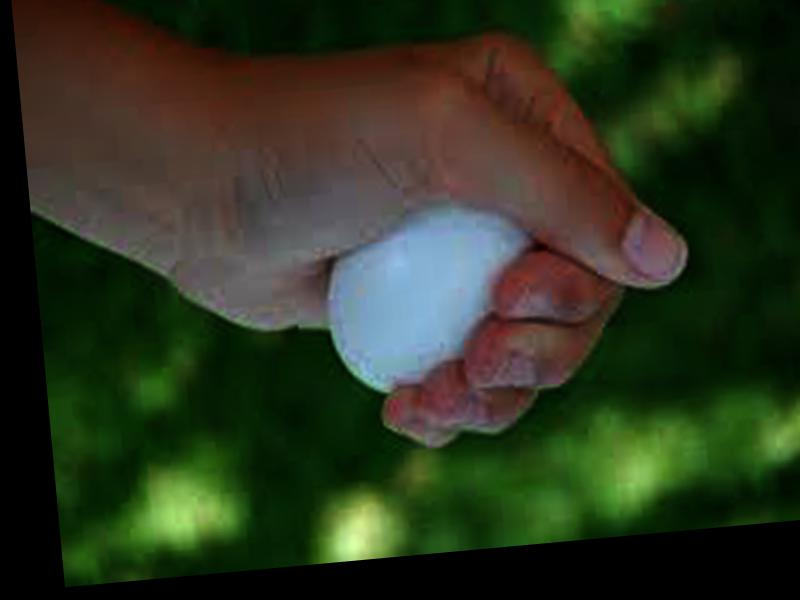Eggs: (320, 198, 549, 400)
